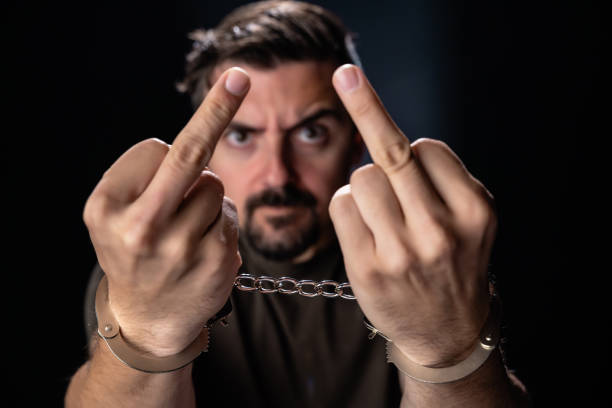insulting_gesture: (324, 64, 497, 367), (82, 67, 255, 354)
